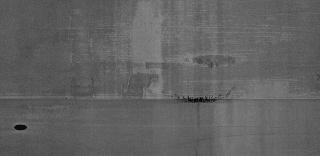inclusion: (169, 92, 231, 104)
punching hole: (12, 120, 30, 132)
rolled pit: (64, 8, 100, 100), (112, 58, 172, 98)
welding line: (2, 95, 318, 106)
